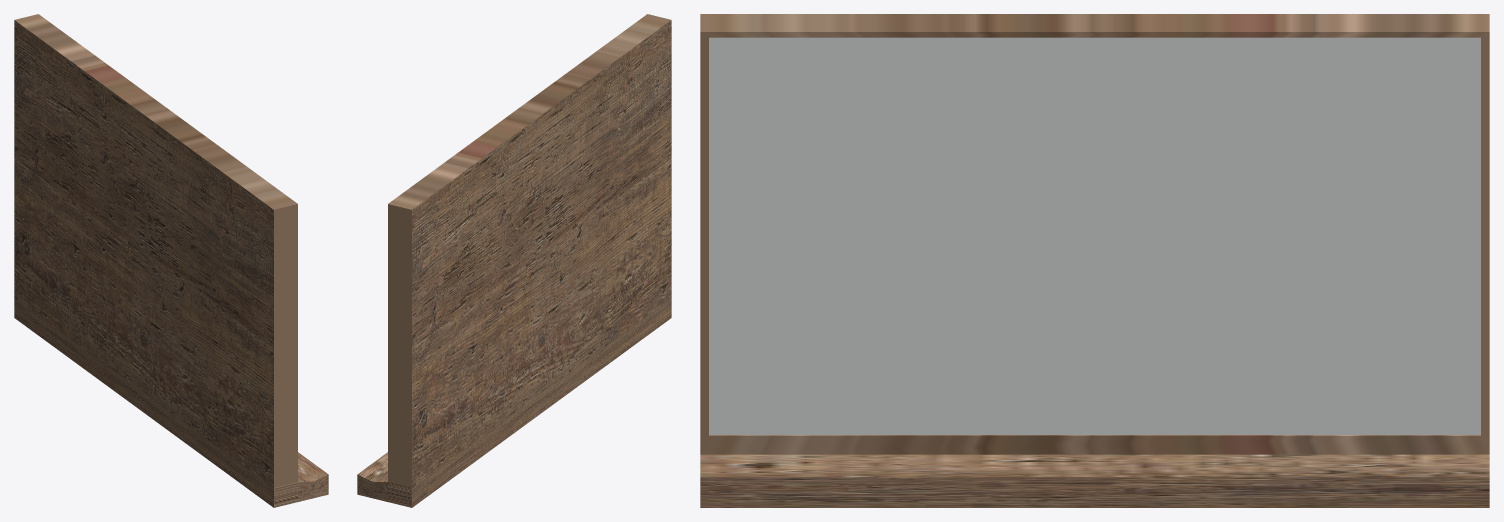
File: Board.fbx
The picture shows the model from 3 angles, left to right: view 1: azimuth 30°, elevation 25°; view 2: azimuth 150°, elevation 25°; view 3: azimuth 270°, elevation 25°; orthographic projection. The views are drawn at different scales.
Visible parts, largest first — view 1: pCube1; view 2: pCube1; view 3: pCube1.
Boxes of the visible parts, x1,y1,x2,y2 form: pCube1: (14,14,328,507); pCube1: (357,14,671,507); pCube1: (700,14,1489,507).
Bounding box in the file's own units: 1.41 × 7.32 × 11.56.
2 materials, 1 textured.
